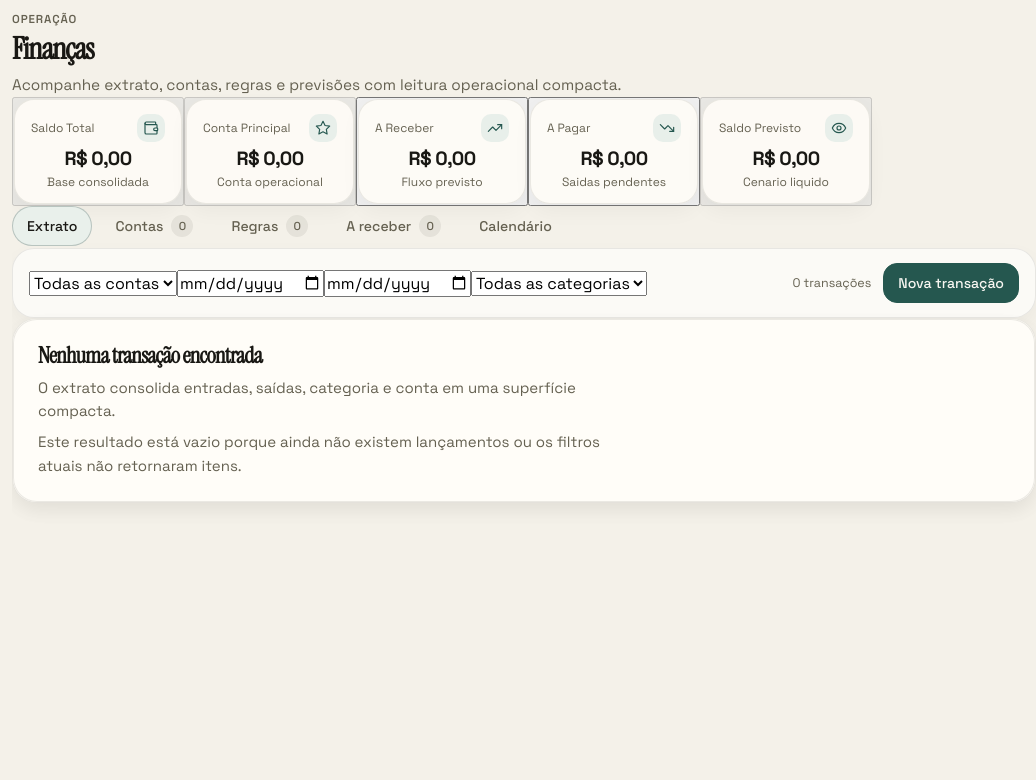
Test: FinanceView › renders header, segmented tabs, and contextual action bar
The width and height of the screenshot is (1036, 780).
Expected: the heading "Finanças" is shown, [12,29,93,68]
Expected: the tab "Extrato" is shown, [12,206,92,246]
Click the tab "Contas 0". click: click(154, 226)
box: [100,206,208,246]
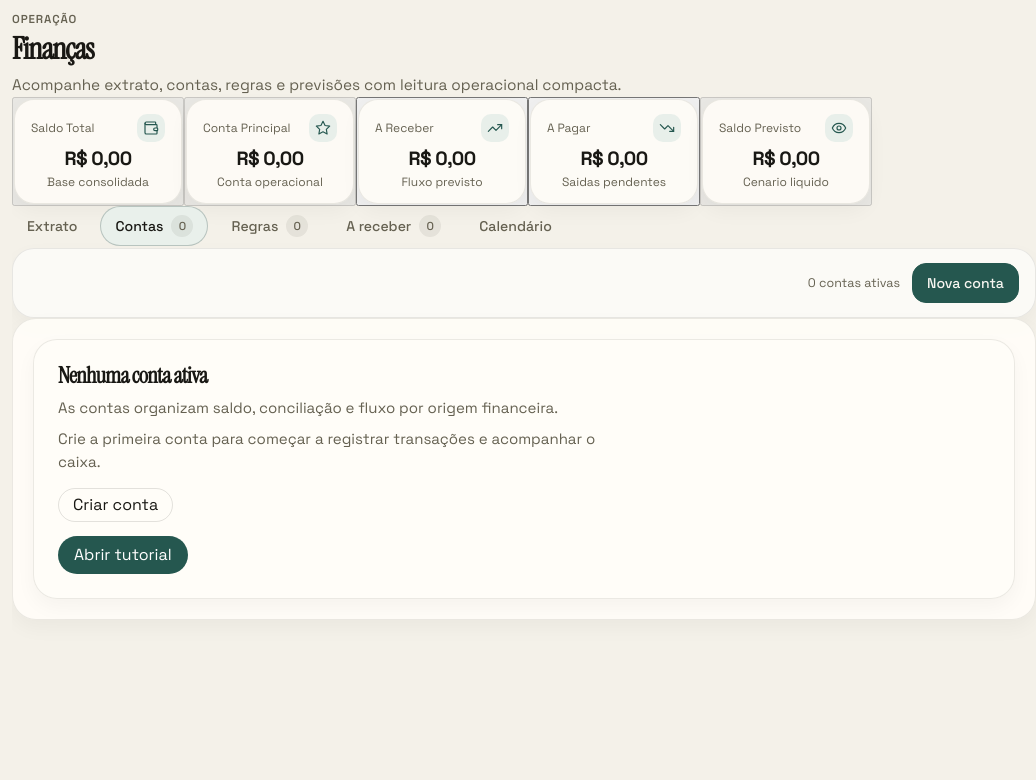
Expected: the button "Criar conta" is shown, [58,488,173,522]
Expected: the button "Abrir tutorial" is shown, [58,536,188,574]
